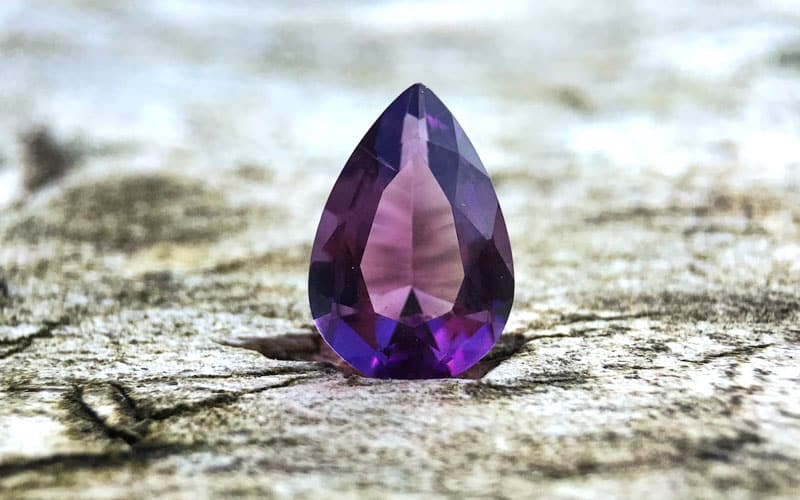Amethyst: (306, 81, 515, 382)
